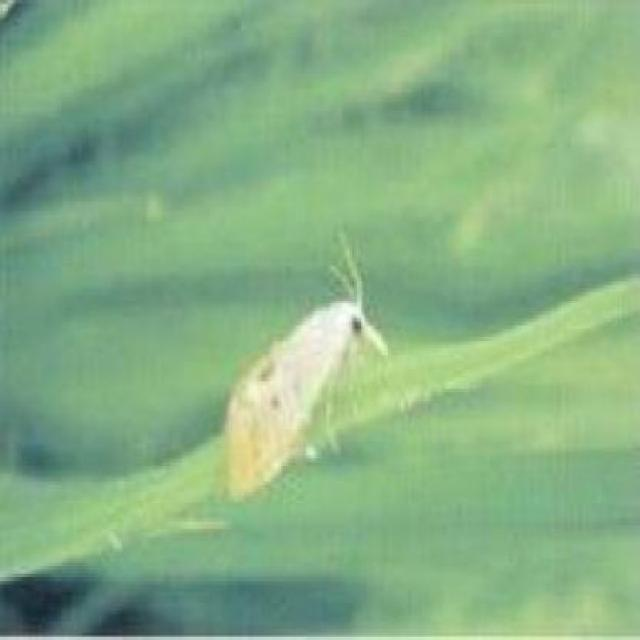stem-borer: (224, 234, 390, 508)
